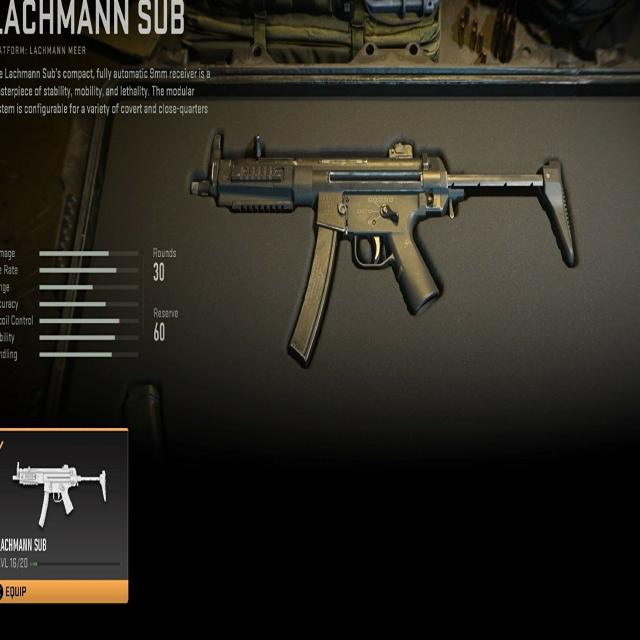Weapon: (190, 134, 574, 364), (13, 463, 106, 527)
